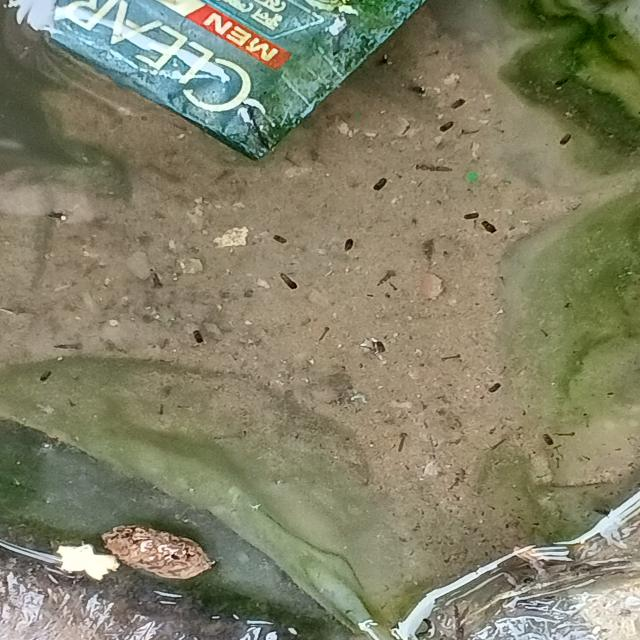Breeding Place: (0, 1, 640, 640)
